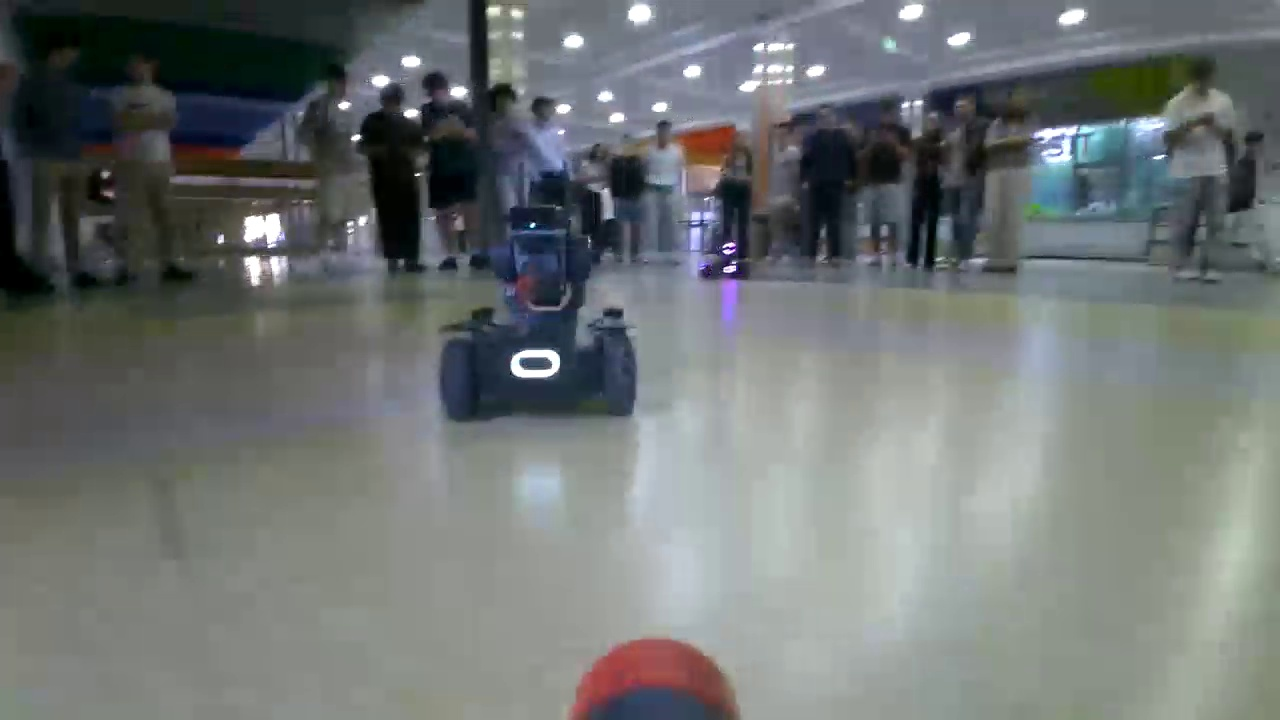robot: (440, 194, 650, 426)
